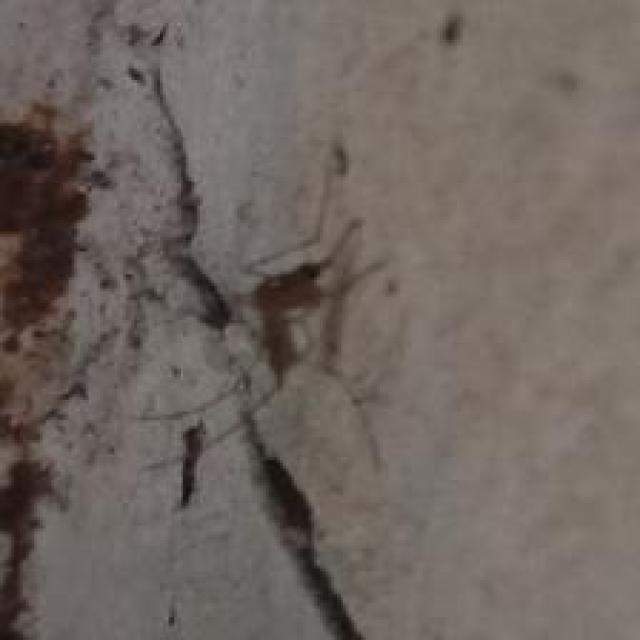Culex: (0, 4, 414, 638)
